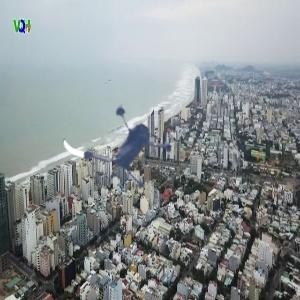drone: (62, 75, 189, 202)
